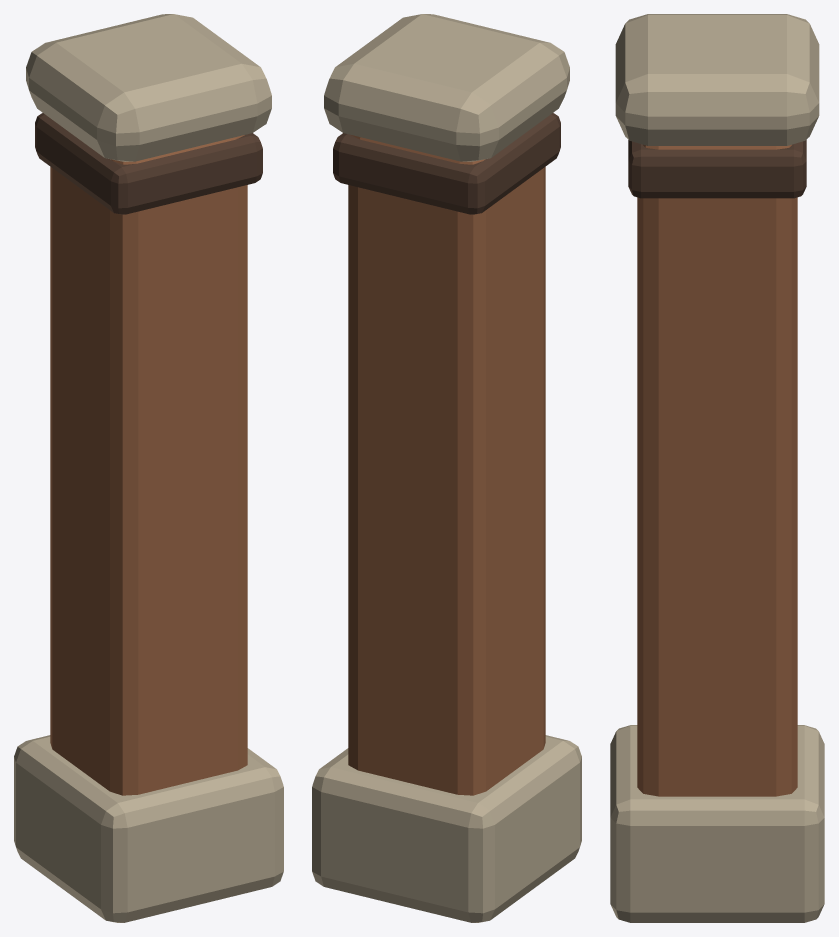
Rendered from CV_Post.glb.
The picture shows the model from 3 angles, left to right: view 1: azimuth 30°, elevation 25°; view 2: azimuth 150°, elevation 25°; view 3: azimuth 270°, elevation 25°; orthographic projection. The views are drawn at different scales.
Parts seen in each view (by area): view 1: CV_Post_Cedar_Core, CV_Post_Limestone_Foot, CV_Post_Rounded_Limestone_Cap, CV_Post_Walnut_Collar; view 2: CV_Post_Cedar_Core, CV_Post_Limestone_Foot, CV_Post_Rounded_Limestone_Cap, CV_Post_Walnut_Collar; view 3: CV_Post_Cedar_Core, CV_Post_Limestone_Foot, CV_Post_Rounded_Limestone_Cap, CV_Post_Walnut_Collar.
Part boxes in pixels (<box>): CV_Post_Cedar_Core: <box>50,135,247,795</box>; CV_Post_Limestone_Foot: <box>14,735,283,922</box>; CV_Post_Rounded_Limestone_Cap: <box>26,14,271,161</box>; CV_Post_Walnut_Collar: <box>35,113,262,214</box>; CV_Post_Cedar_Core: <box>348,135,545,795</box>; CV_Post_Limestone_Foot: <box>312,735,581,922</box>; CV_Post_Rounded_Limestone_Cap: <box>324,14,569,161</box>; CV_Post_Walnut_Collar: <box>333,113,560,214</box>; CV_Post_Cedar_Core: <box>637,144,797,796</box>; CV_Post_Limestone_Foot: <box>610,725,824,922</box>; CV_Post_Rounded_Limestone_Cap: <box>615,14,819,145</box>; CV_Post_Walnut_Collar: <box>628,140,806,198</box>.
Size of the model in its own units: 0.3 by 1.3 by 0.3.
